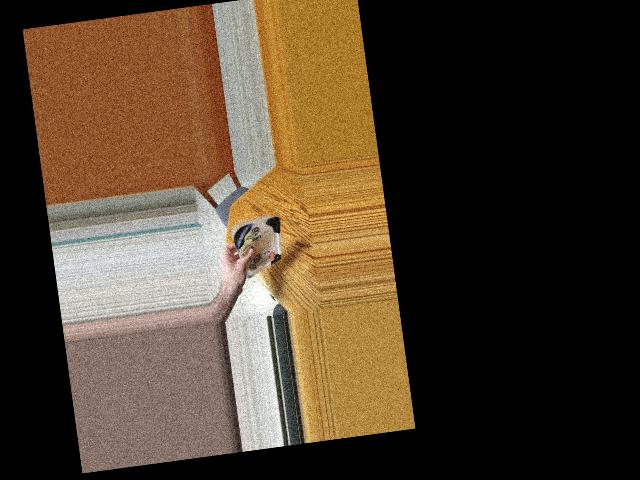cheese: (228, 211, 282, 269)
